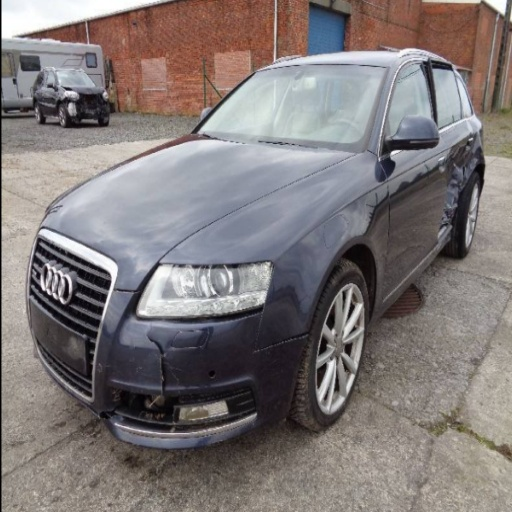dent: (439, 137, 485, 237), (340, 191, 377, 239)
scratch: (164, 359, 186, 396), (128, 336, 144, 376), (109, 387, 124, 403), (96, 360, 112, 374)
